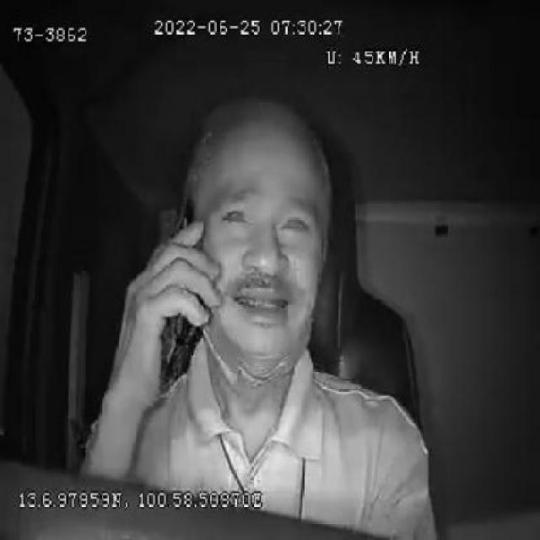phone: (158, 201, 201, 391)
